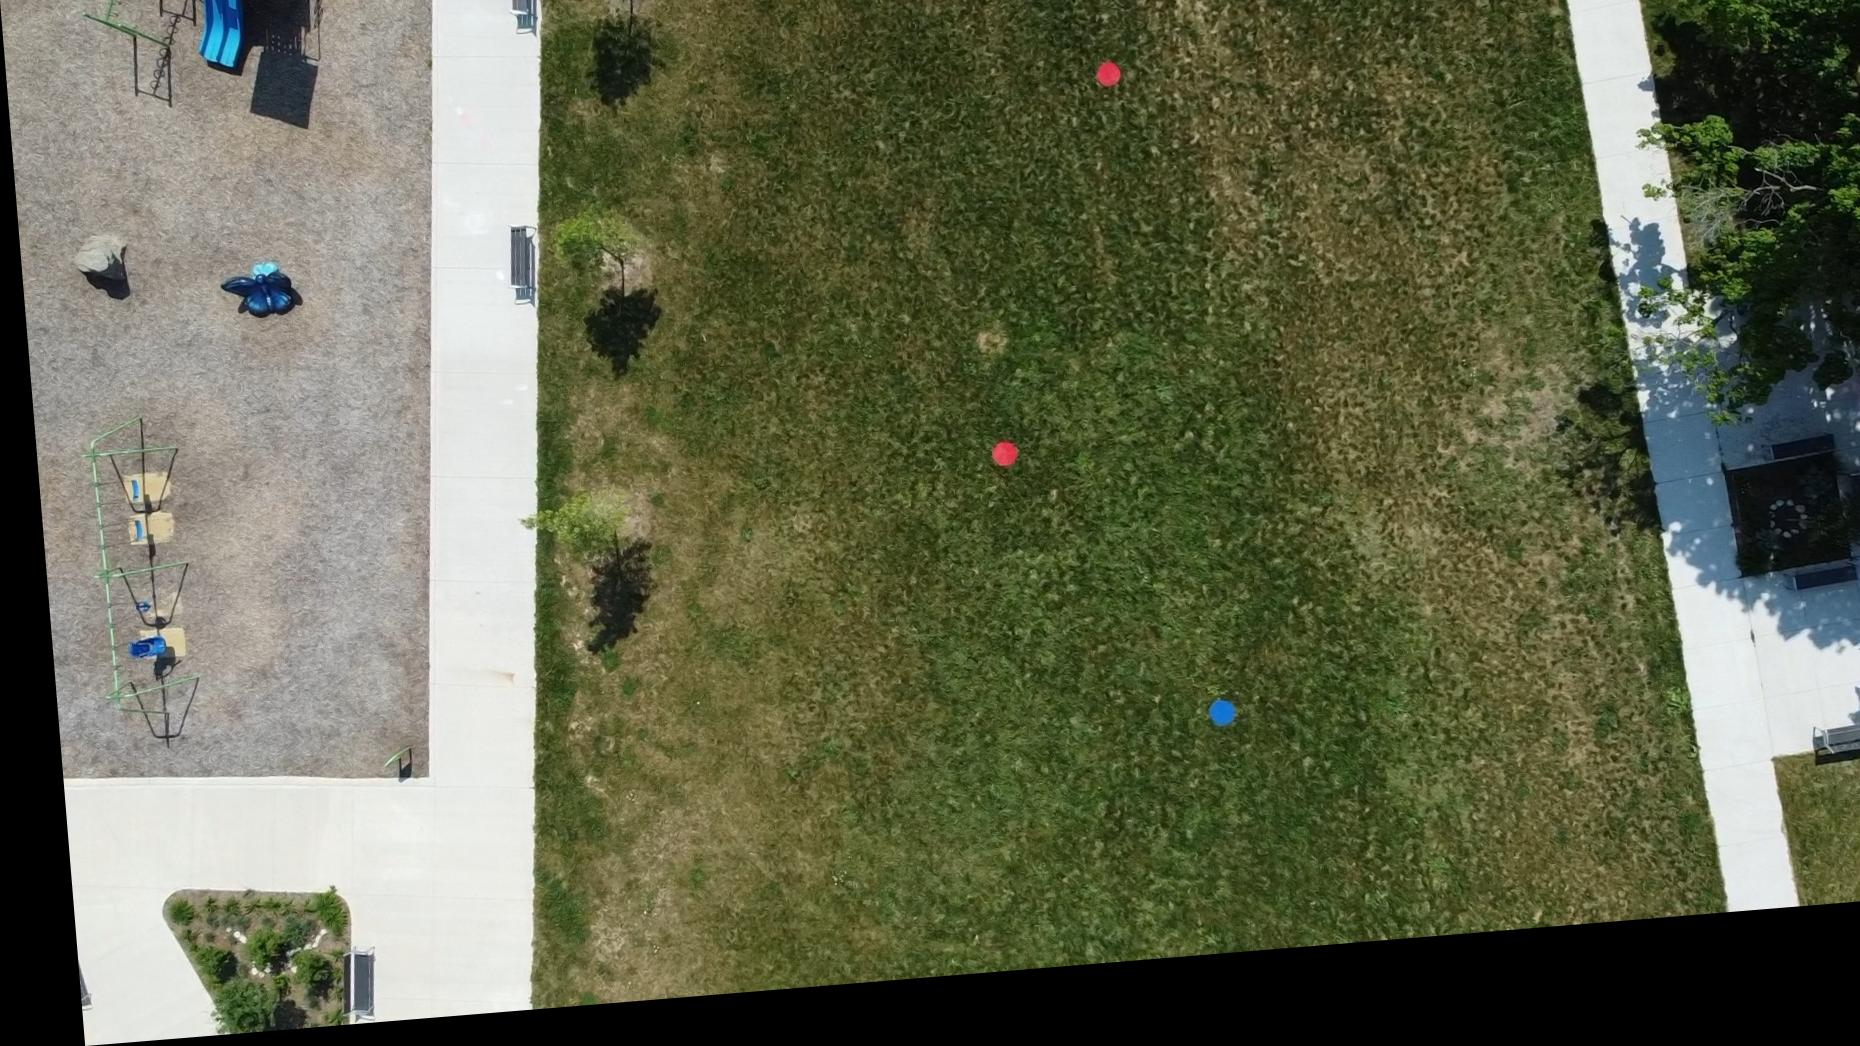Blue: (1194, 718, 1224, 747)
Red: (981, 456, 1010, 485), (1091, 79, 1119, 107)
